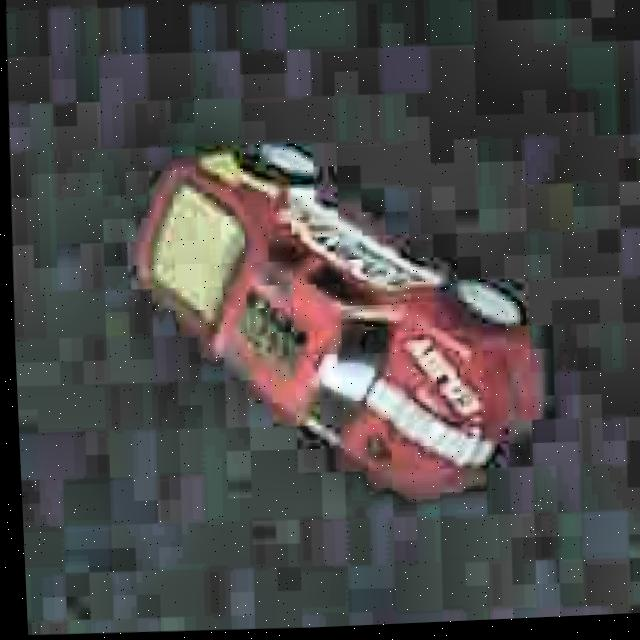car: (120, 123, 551, 514)
